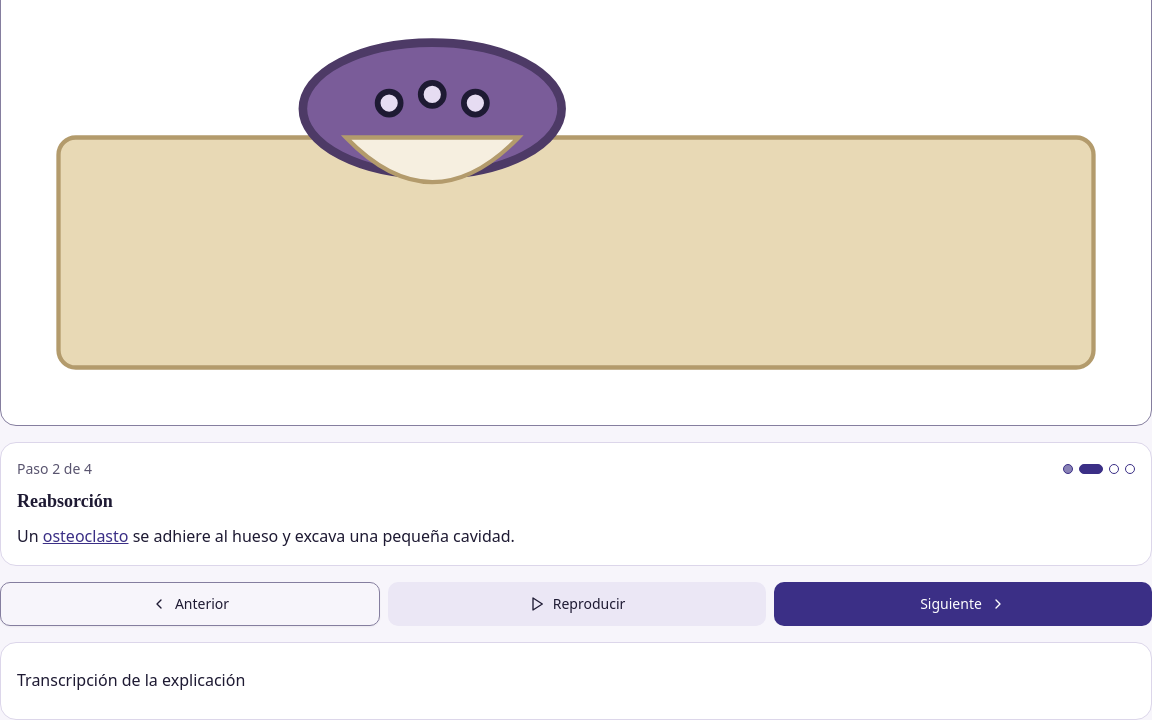
Test: animación: estado previo › tras repetir no se vuelve a aplicar la instantánea guardada
(page scrolled)
Step 1. Click the button with test id "siguiente" → (963, 604), box [774,582,1151,626]
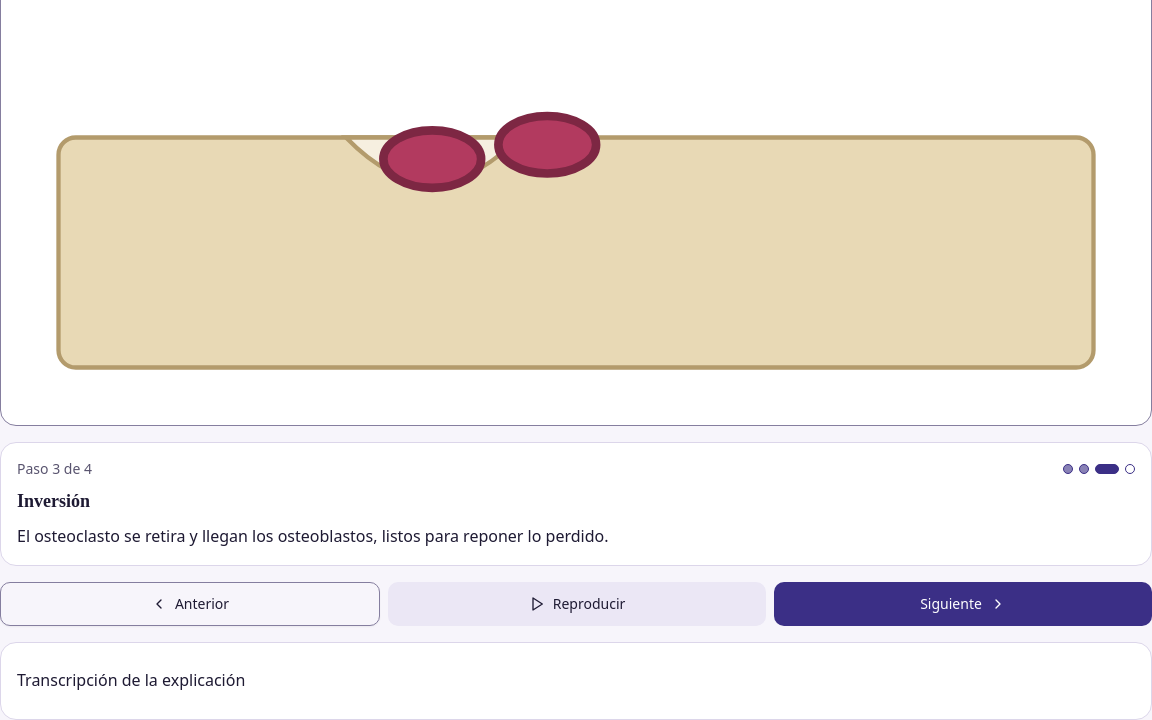
Step 2. Click the button with test id "siguiente" → (963, 604), box [774,582,1151,626]
(page scrolled)
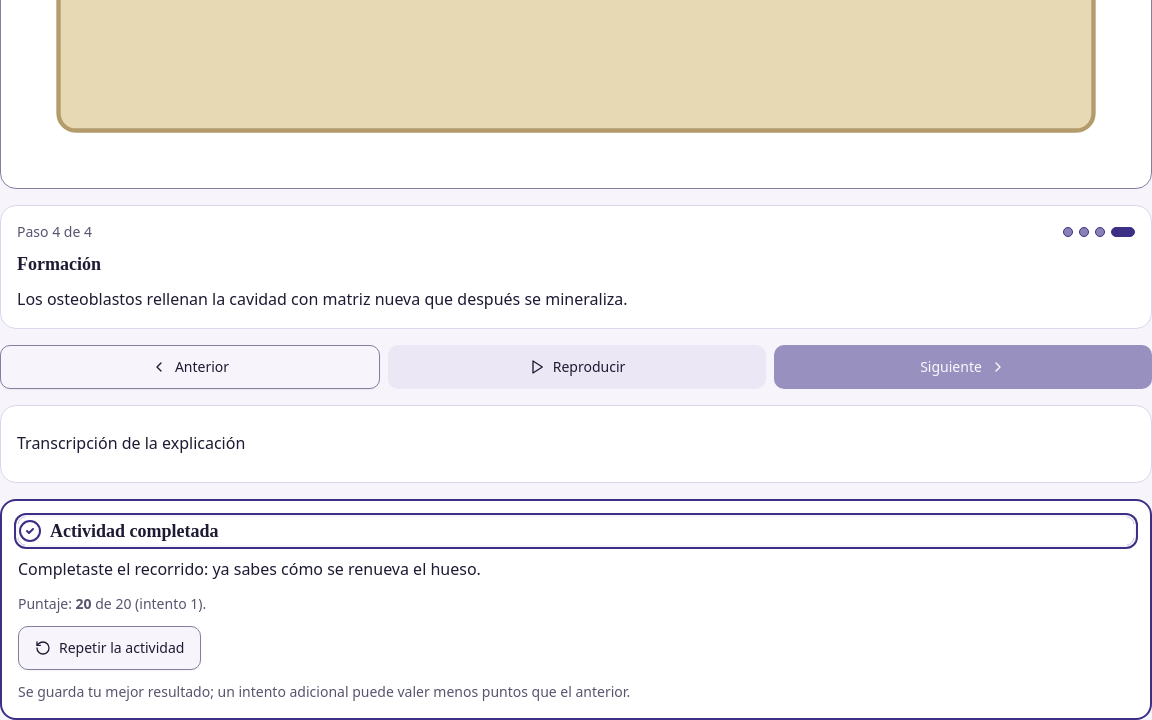
Step 3. Click the button "Repetir la actividad" → (110, 648), box [18,626,201,670]
(page scrolled)
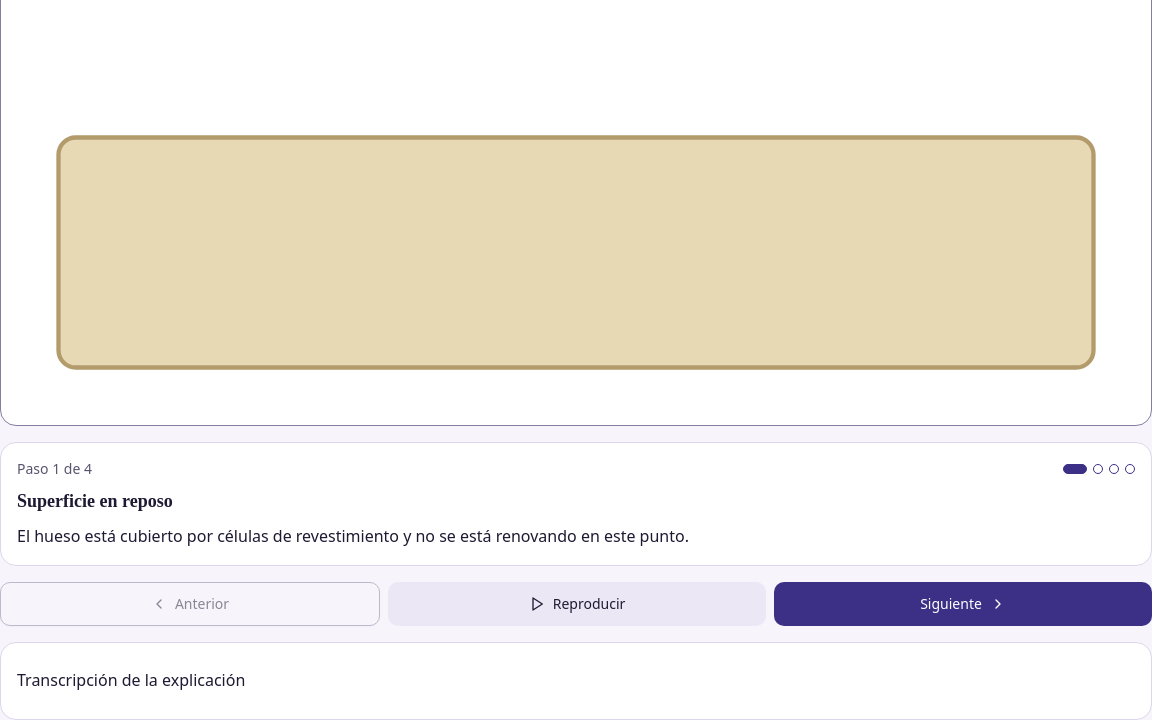
Expected: the text with test id "contador-paso" reads "Paso 1 de 4", [17,459,92,478]
